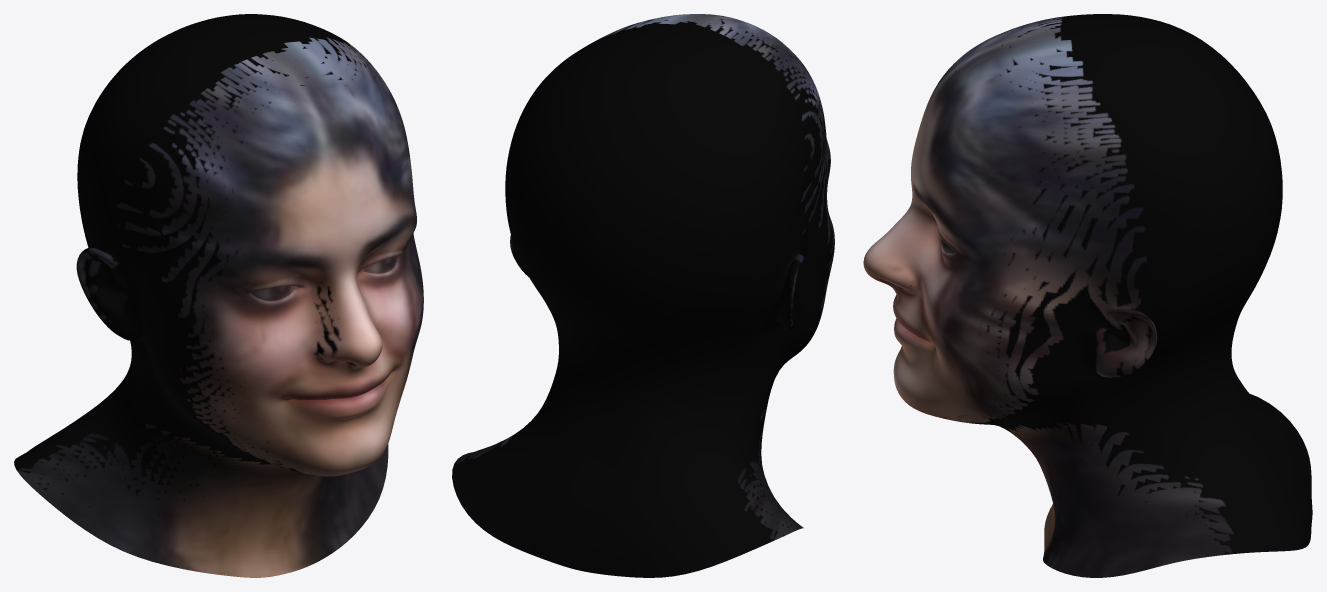
Rendered from vini.glb.
3 renders of one model, left to right at view 1: azimuth 30°, elevation 25°; view 2: azimuth 150°, elevation 25°; view 3: azimuth 270°, elevation 25°, orthographic. The views are drawn at different scales.
Visible parts, largest first — view 1: FBHead; view 2: FBHead; view 3: FBHead.
Boxes of the visible parts, <box> form: FBHead: <box>14,14,423,577</box>; FBHead: <box>452,14,834,577</box>; FBHead: <box>863,14,1312,577</box>.
Size of the model in its own units: 1.82 by 2.62 by 2.06.
1 material, 1 textured.
